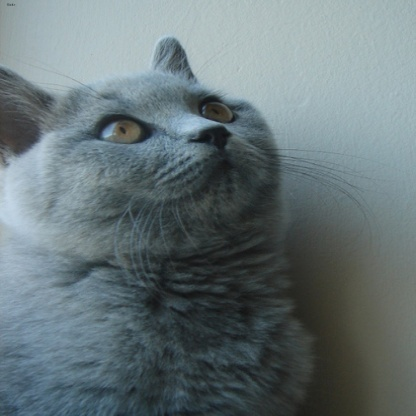british_shorthair: (1, 35, 312, 414)
